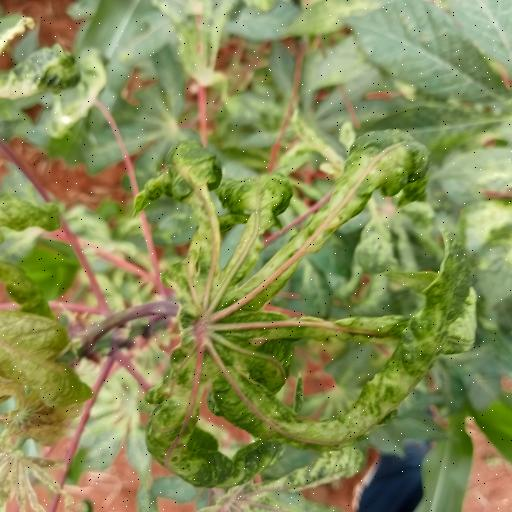Cassava_Mosaic: (159, 138, 467, 479)
